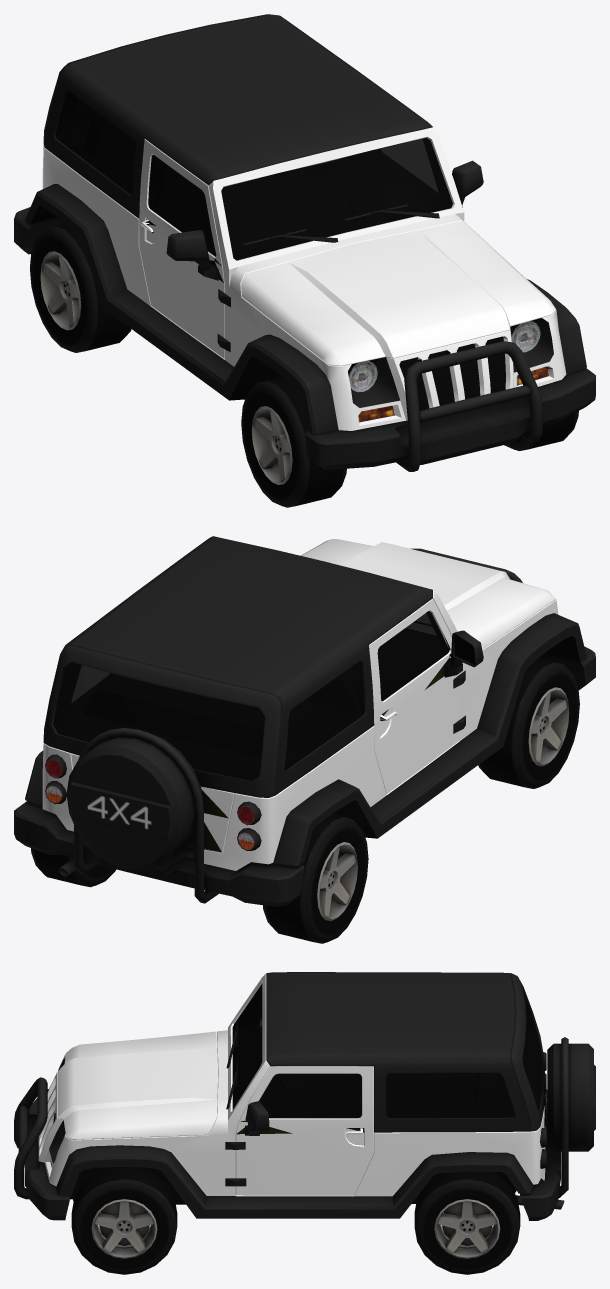
The model's file is offroad-1.glb.
3 renders of one model, top to bottom at view 1: azimuth 30°, elevation 25°; view 2: azimuth 150°, elevation 25°; view 3: azimuth 270°, elevation 25°, orthographic. The views are drawn at different scales.
Visible parts, largest first — view 1: body, wheel_fr, wheel_rr, wheel_fl; view 2: body, wheel_fr, wheel_rr, wheel_rl; view 3: body, wheel_fl, wheel_rl.
Boxes of the visible parts, x1,y1,x2,y2 form: body: (14, 14, 595, 471); wheel_fr: (241, 376, 346, 507); wheel_rr: (30, 223, 131, 352); wheel_fl: (504, 411, 578, 450); body: (14, 536, 595, 906); wheel_fr: (478, 658, 579, 788); wheel_rr: (263, 814, 368, 943); wheel_rl: (31, 848, 116, 887); body: (14, 972, 595, 1220); wheel_fl: (71, 1167, 177, 1274); wheel_rl: (414, 1171, 520, 1274).
Bounding box in the file's own units: 1.96 × 1.57 × 3.94.
Materials: 5 (3 with a texture image).
